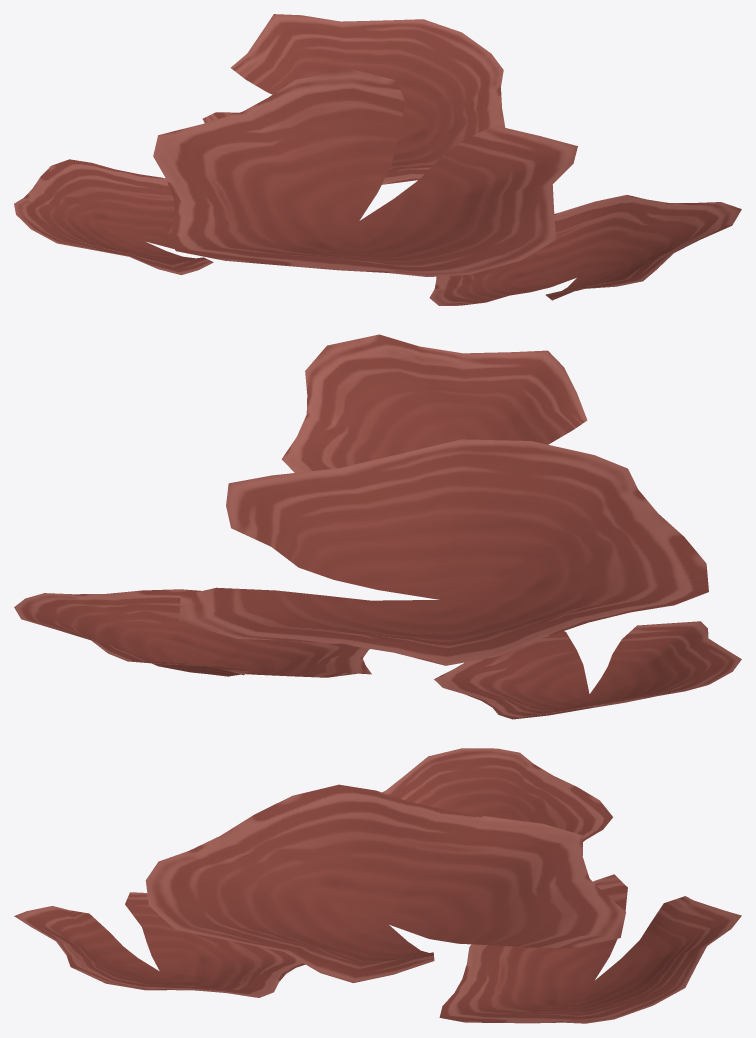
File: coral24_FBX_still.fbx
3 renders of one model, top to bottom at view 1: azimuth 30°, elevation 25°; view 2: azimuth 150°, elevation 25°; view 3: azimuth 270°, elevation 25°, orthographic. The views are drawn at different scales.
Parts seen in each view (by area): view 1: coral24_gameasset; view 2: coral24_gameasset; view 3: coral24_gameasset.
Boxes of the visible parts, bbox=[...] form: coral24_gameasset: bbox=[14, 14, 741, 305]; coral24_gameasset: bbox=[14, 334, 741, 719]; coral24_gameasset: bbox=[14, 748, 741, 1023].
Bounding box in the file's own units: 1.8 × 0.2424 × 2.13.
Materials: 1 (1 with a texture image).
